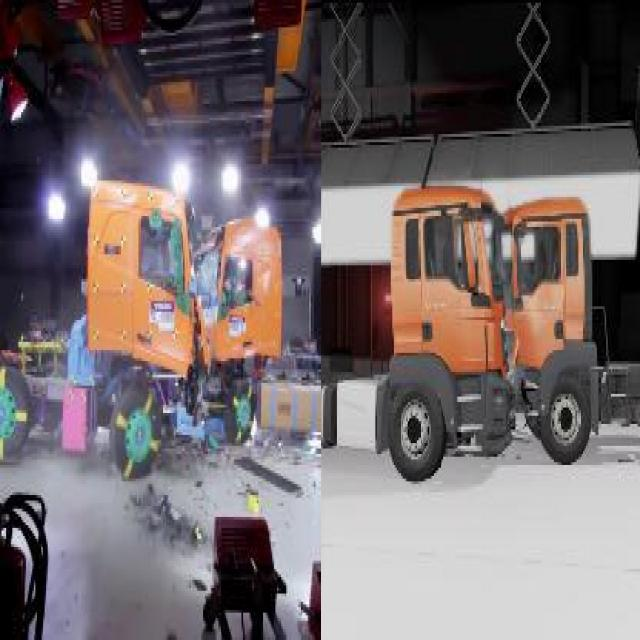accident: (321, 164, 640, 486), (0, 167, 322, 459)
